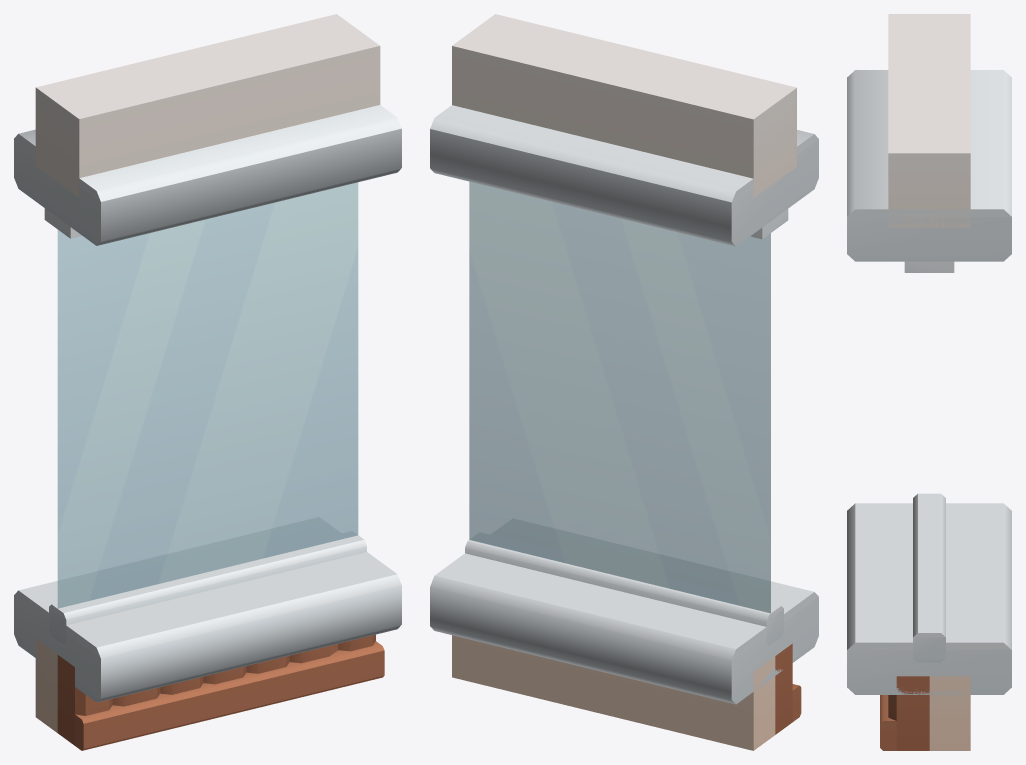
File: wall-panelled-bakery-window-full-center.glb
3 views of the same model, side by side, from view 1: azimuth 30°, elevation 25°; view 2: azimuth 150°, elevation 25°; view 3: azimuth 270°, elevation 25° (orthographic). The views are drawn at different scales.
Parts seen in each view (by area): view 1: wall_panelled_bakery_window_full_center; view 2: wall_panelled_bakery_window_full_center; view 3: wall_panelled_bakery_window_full_center.
Boxes of the visible parts, x1,y1,x2,y2 form: wall_panelled_bakery_window_full_center: [14, 14, 401, 750]; wall_panelled_bakery_window_full_center: [430, 14, 818, 750]; wall_panelled_bakery_window_full_center: [847, 14, 1011, 750].
Size of the model in its own units: 2 by 4 by 1.
2 materials, 2 textured.
